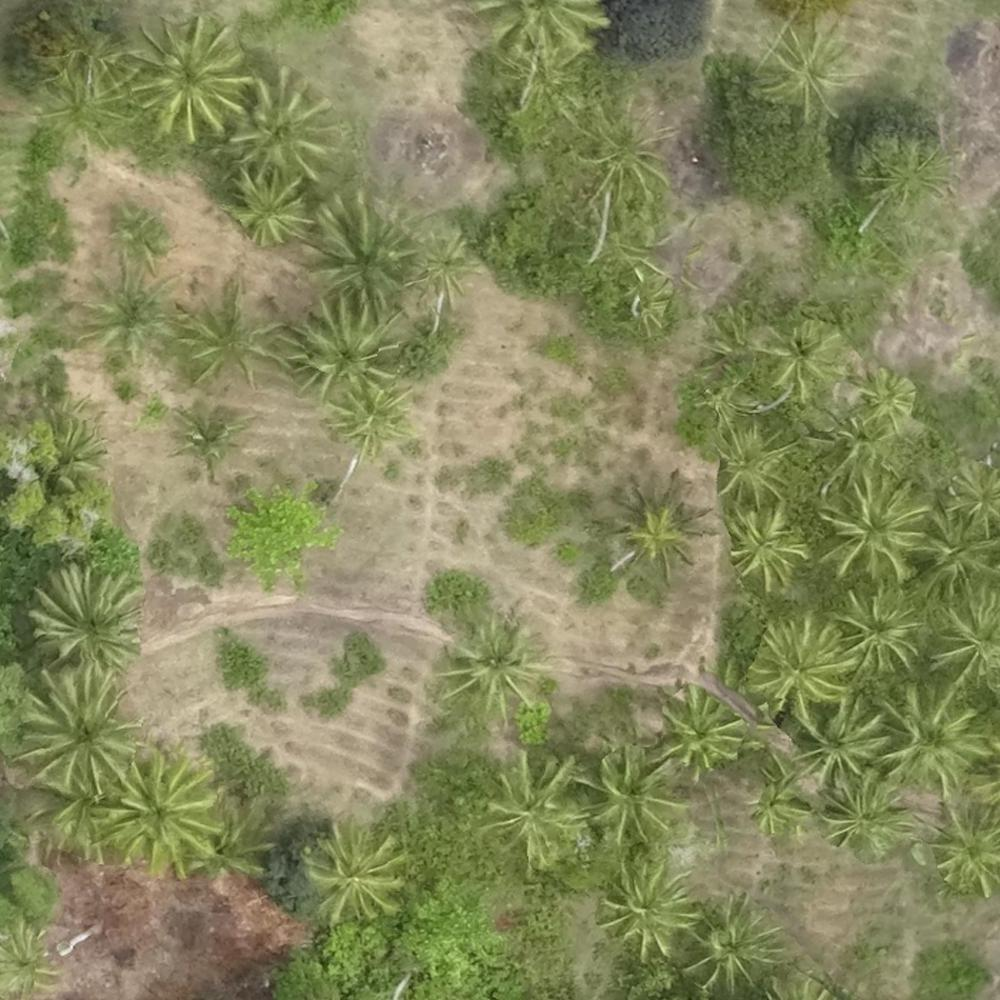Palm: (17, 672, 137, 793), (101, 754, 220, 871), (133, 18, 241, 134), (292, 296, 402, 404), (309, 195, 416, 298), (229, 68, 332, 174), (30, 572, 141, 669), (302, 824, 407, 925), (177, 286, 286, 381), (885, 684, 985, 786), (486, 758, 582, 863), (442, 616, 540, 717), (609, 479, 708, 572), (824, 482, 921, 576), (82, 265, 180, 355), (681, 900, 778, 989), (788, 697, 893, 779), (581, 752, 678, 840), (746, 619, 845, 705), (605, 859, 694, 952), (653, 689, 746, 765), (920, 804, 1000, 892), (834, 594, 924, 669), (171, 398, 253, 476), (726, 508, 809, 585), (225, 168, 311, 242), (713, 426, 792, 505), (920, 509, 996, 590), (328, 390, 410, 459), (407, 229, 481, 304), (830, 774, 907, 846)
